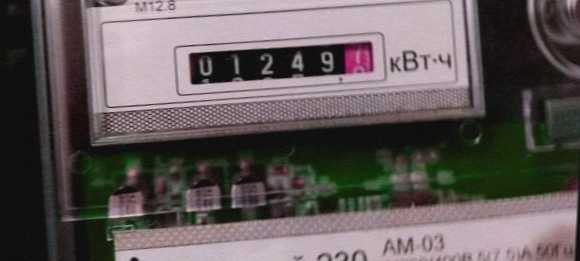0: (195, 51, 215, 78)
1: (227, 52, 243, 78)
2: (257, 51, 278, 78)
4: (289, 47, 309, 75)
7: (350, 42, 366, 67)
9: (318, 49, 338, 75)
screen: (166, 25, 402, 112)
